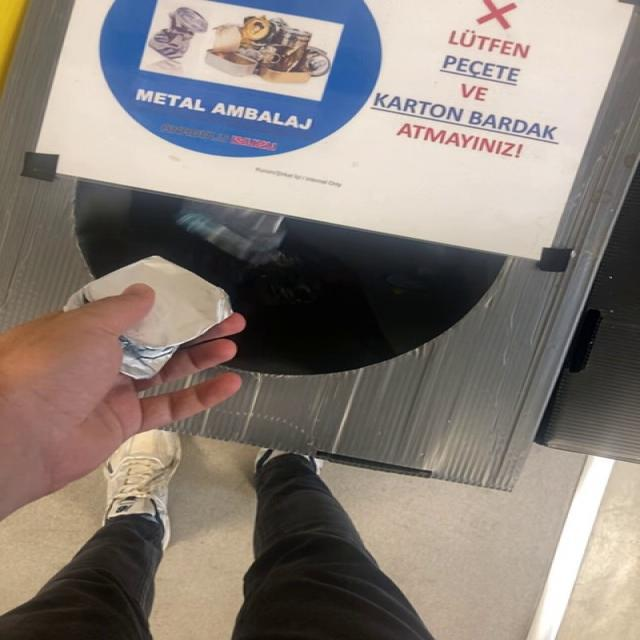bin: (75, 19, 637, 490), (1, 0, 85, 326)
metal: (63, 256, 232, 380)
